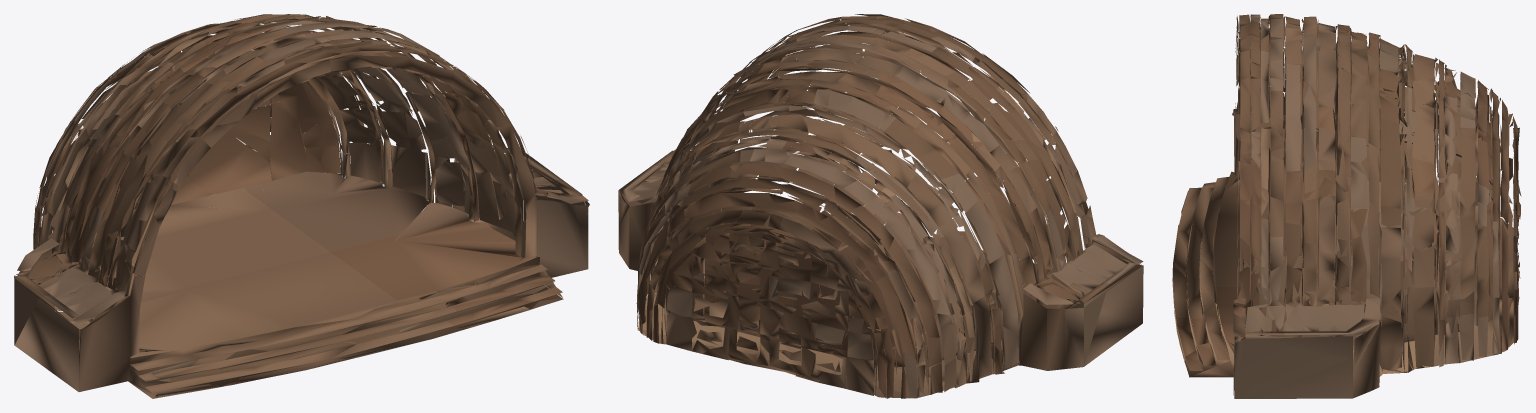
Rendered from bandshell.glb.
3 renders of one model, left to right at view 1: azimuth 30°, elevation 25°; view 2: azimuth 150°, elevation 25°; view 3: azimuth 270°, elevation 25°, orthographic. The views are drawn at different scales.
Parts seen in each view (by area): view 1: LO.001; view 2: LO.001; view 3: LO.001.
Boxes of the visible parts, x1=… form: LO.001: x1=14, y1=14, x2=589, y2=398; LO.001: x1=618, y1=14, x2=1143, y2=398; LO.001: x1=1172, y1=14, x2=1521, y2=398.
Bounding box in the file's own units: 24.03 × 12.32 × 15.52.
Materials: 1 (1 with a texture image).
